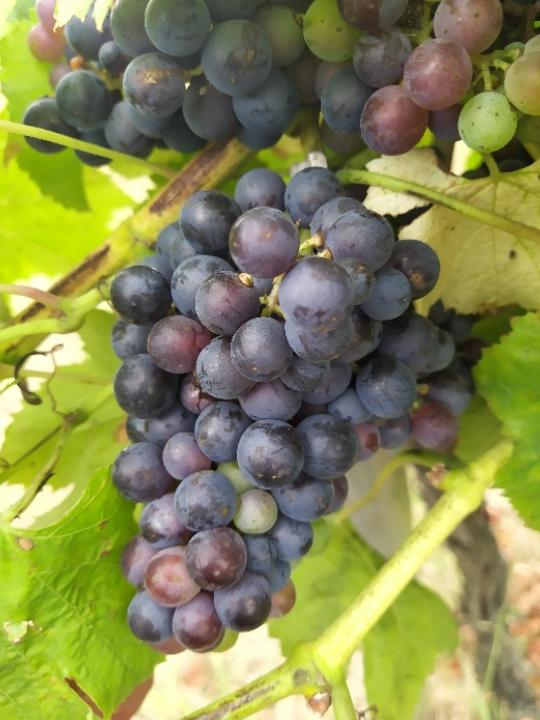grape: (102, 159, 465, 662)
